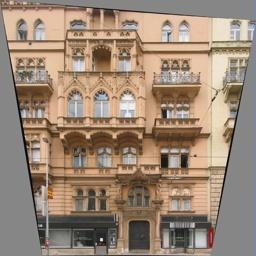building: (0, 0, 213, 256)
